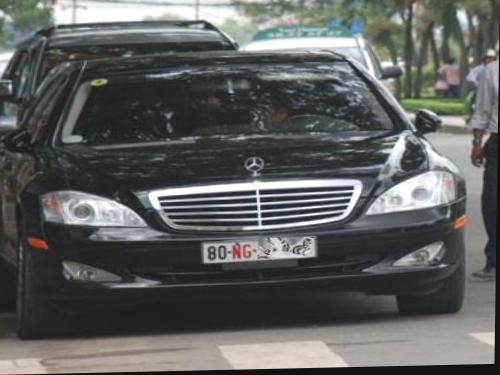License_Plate: (197, 234, 323, 266)
